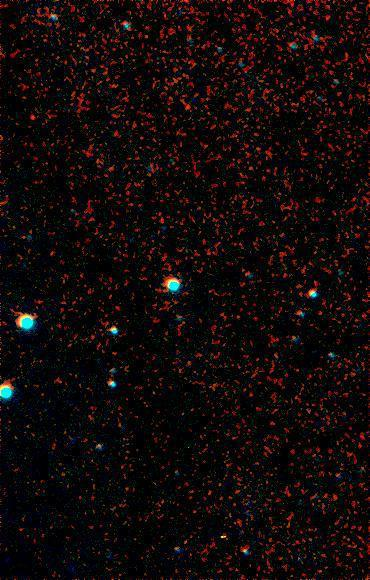star: (17, 103, 47, 133)
